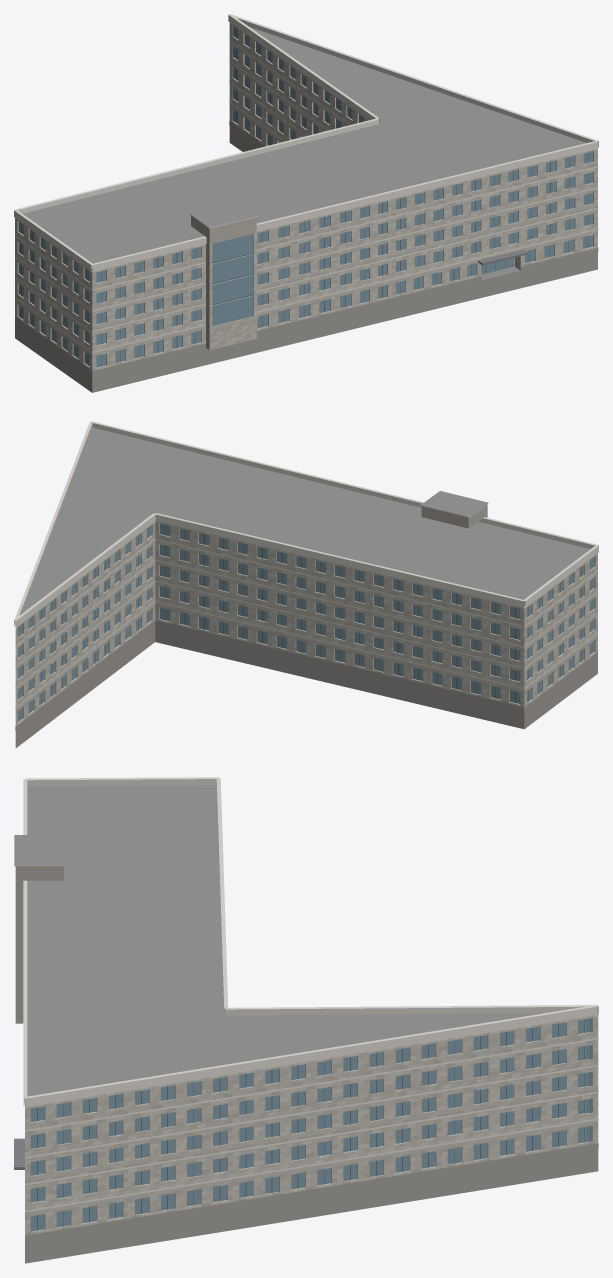
3 renders of one model, top to bottom at view 1: azimuth 30°, elevation 25°; view 2: azimuth 150°, elevation 25°; view 3: azimuth 270°, elevation 25°, orthographic. The views are drawn at different scales.
Visible parts, largest first — view 1: bionano__wall, bionano__roof, bionano__glass, bionano__trim, bionano__base, bionano__frame, bionano__wall2; view 2: bionano__wall, bionano__roof, bionano__glass, bionano__trim, bionano__base, bionano__frame, bionano__wall2; view 3: bionano__roof, bionano__wall, bionano__glass, bionano__trim, bionano__base, bionano__wall2, bionano__frame.
Part boxes in pixels (x1,y1,x2,y2): bionano__wall: [15, 22, 597, 374]; bionano__roof: [23, 27, 586, 280]; bionano__glass: [18, 25, 593, 367]; bionano__trim: [14, 14, 598, 352]; bionano__base: [15, 121, 598, 392]; bionano__frame: [21, 28, 588, 366]; bionano__wall2: [191, 215, 256, 349]; bionano__wall: [15, 521, 597, 726]; bionano__roof: [16, 427, 590, 624]; bionano__glass: [18, 523, 594, 721]; bionano__trim: [14, 421, 598, 708]; bionano__base: [15, 620, 597, 748]; bionano__frame: [41, 525, 581, 703]; bionano__wall2: [421, 504, 487, 528]; bionano__roof: [14, 785, 544, 1103]; bionano__wall: [25, 1015, 598, 1235]; bionano__glass: [30, 1018, 591, 1231]; bionano__trim: [14, 777, 598, 1212]; bionano__base: [25, 1143, 598, 1263]; bionano__wall2: [15, 866, 63, 1023]; bionano__frame: [37, 1019, 584, 1230].
Size of the model in its own units: 97.59 by 25.65 by 75.06.
Materials: 9 (1 with a texture image).
